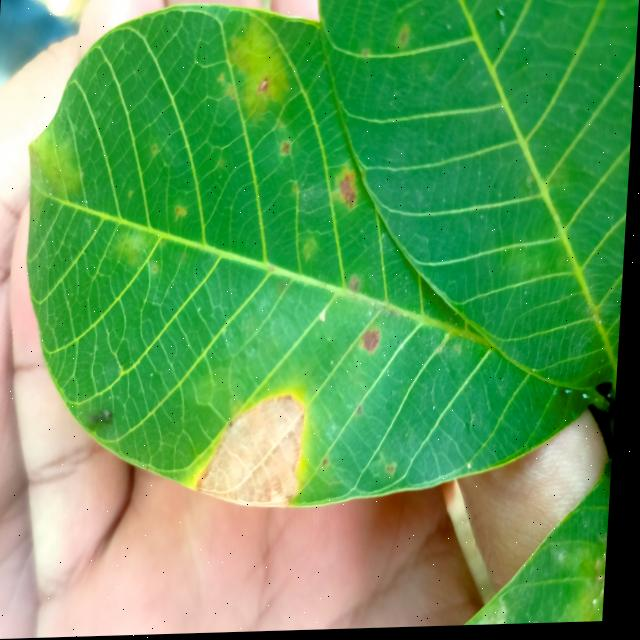Leaf-Blight: (200, 396, 311, 512)
